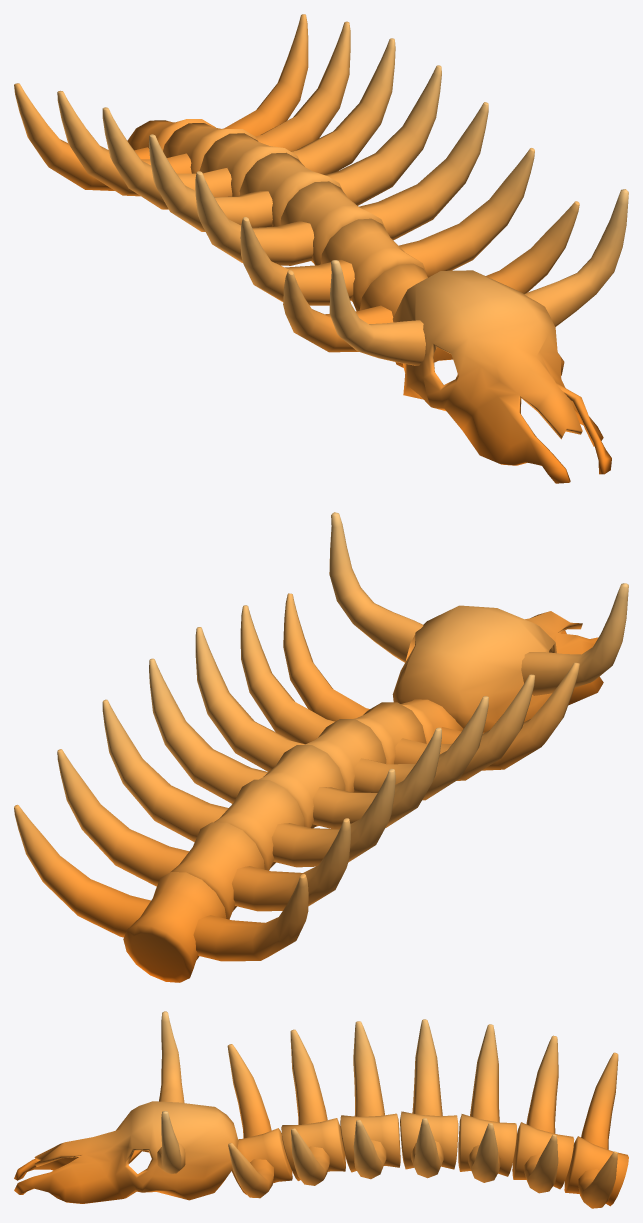
File: Prop_Animal_Skeleton_01.fbx
3 renders of one model, top to bottom at view 1: azimuth 30°, elevation 25°; view 2: azimuth 150°, elevation 25°; view 3: azimuth 270°, elevation 25°, orthographic. The views are drawn at different scales.
Parts seen in each view (by area): view 1: Prop_Animal_Skeleton_01; view 2: Prop_Animal_Skeleton_01; view 3: Prop_Animal_Skeleton_01.
Boxes of the visible parts, x1,y1,x2,y2 form: Prop_Animal_Skeleton_01: (14, 14, 628, 483); Prop_Animal_Skeleton_01: (14, 512, 628, 982); Prop_Animal_Skeleton_01: (14, 1011, 628, 1208).
Size of the model in its own units: 51.39 by 33.56 by 131.
